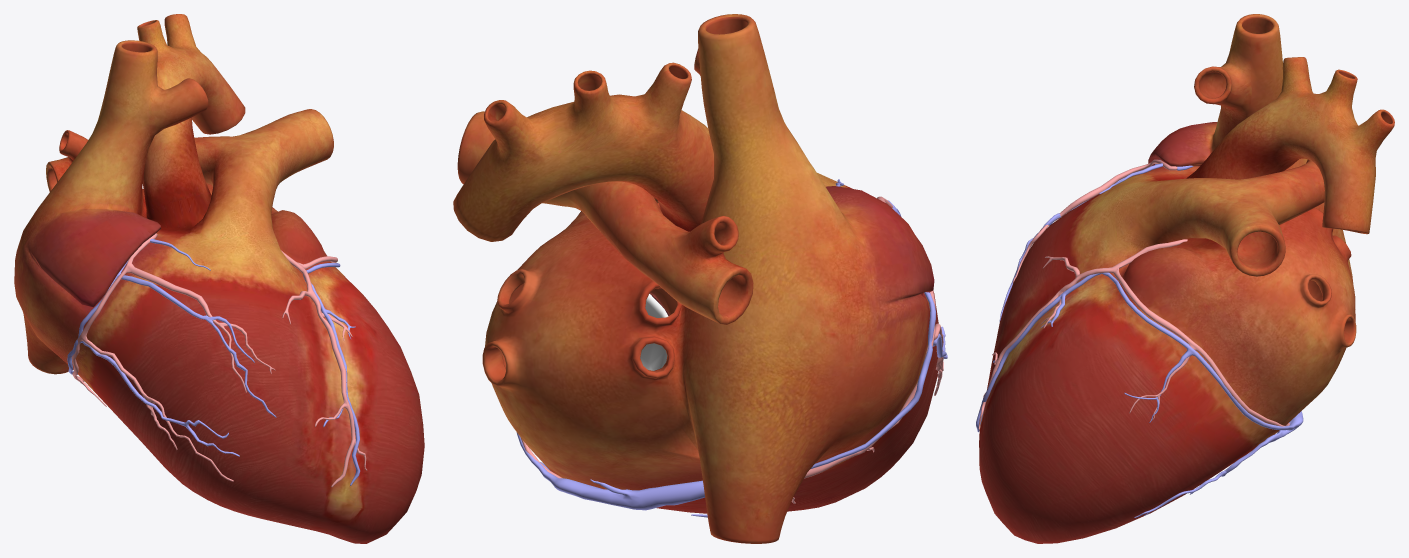
Rendered from normal.glb.
3 views of the same model, side by side, from view 1: azimuth 30°, elevation 25°; view 2: azimuth 150°, elevation 25°; view 3: azimuth 270°, elevation 25° (orthographic). The views are drawn at different scales.
Parts seen in each view (by area): view 1: Normal_Heart.001, Red_Coronary, Blue_Coronary; view 2: Normal_Heart.001, Blue_Coronary, Red_Coronary, geo_Bi_Cuspid_valve; view 3: Normal_Heart.001, Blue_Coronary, Red_Coronary.
Part boxes in pixels (left/top/right/bottom): Normal_Heart.001: left=14, top=14, right=424, bottom=543; Red_Coronary: left=71, top=233, right=367, bottom=487; Blue_Coronary: left=67, top=239, right=360, bottom=485; Normal_Heart.001: left=453, top=14, right=938, bottom=543; Blue_Coronary: left=516, top=179, right=947, bottom=517; Red_Coronary: left=520, top=196, right=943, bottom=503; geo_Bi_Cuspid_valve: left=640, top=294, right=668, bottom=370; Normal_Heart.001: left=979, top=14, right=1394, bottom=543; Blue_Coronary: left=976, top=159, right=1303, bottom=517; Red_Coronary: left=978, top=159, right=1289, bottom=429.
Size of the model in its own units: 0.1231 by 0.1689 by 0.1402.
Materials: 11 (8 with a texture image).
